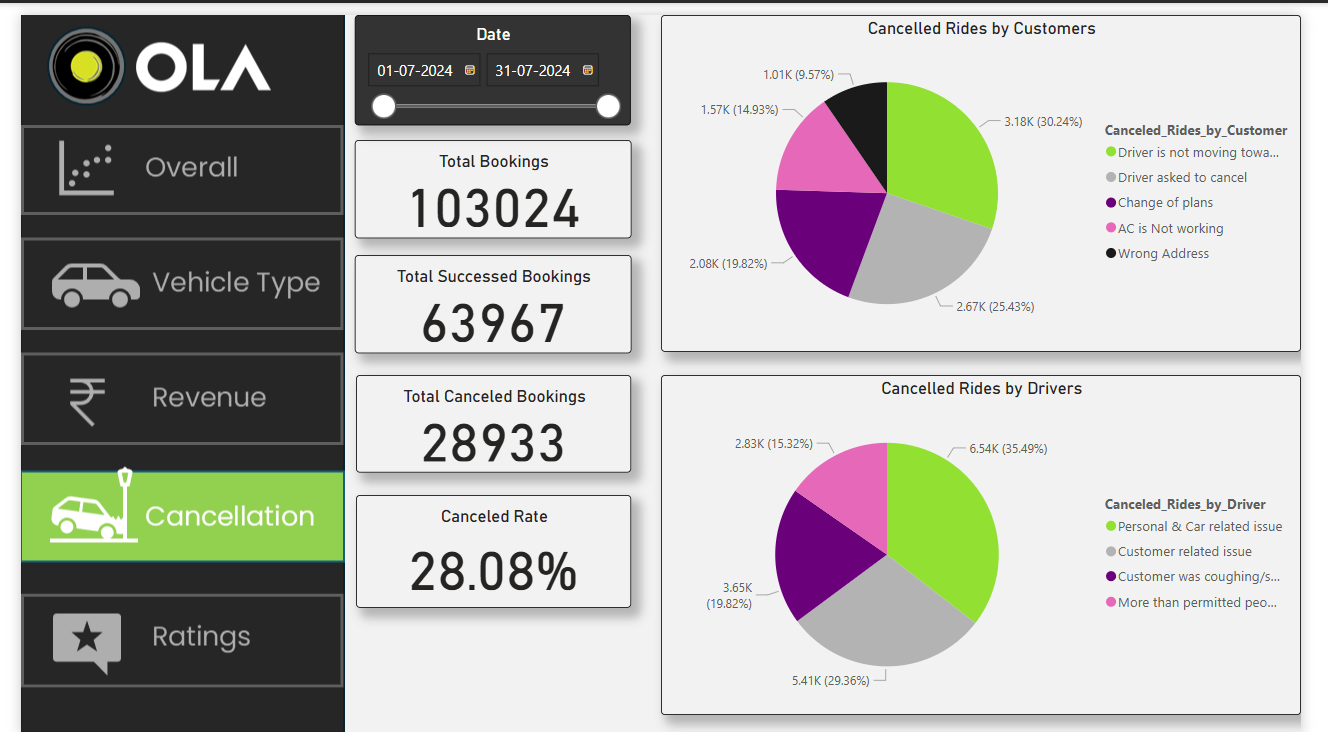

This screenshot's page, from the dashboard's own definition file:
{"tool":"powerbi","page":{"name":"Cancellation","canvas":[1280,720],"ordinal":3},"visuals":[{"type":"actionButton","box":[0,222.5,322.5,92.5],"z":0},{"type":"actionButton","box":[0,337.5,322.5,92.5],"z":1000},{"type":"actionButton","box":[0,578.8,322.5,93.8],"z":2000},{"type":"actionButton","box":[0,110,322.5,90],"z":3000},{"type":"pieChart","title":"Cancelled Rides by Drivers","fields":{"Category":["July.Canceled_Rides_by_Driver"],"Y":["CountNonNull(July.Canceled_Rides_by_Driver)"]},"box":[640,360,640,340],"z":4000},{"type":"pieChart","title":"Cancelled Rides by Customers","fields":{"Category":["July.Canceled_Rides_by_Customer"],"Y":["CountNonNull(July.Canceled_Rides_by_Customer)"]},"box":[640,0,640,337.1],"z":5000},{"type":"card","title":"Total Bookings","fields":{"Values":["CountNonNull(July.Booking_ID)"]},"box":[333.8,124.8,276.4,98.1],"z":6000},{"type":"slicer","title":"Date","fields":{"Values":["July.Date"]},"box":[334.3,0,275.7,110],"z":7000},{"type":"card","title":"Total Successed Bookings","fields":{"Values":["CountNonNull(July.Booking_ID)"]},"box":[333.8,239.5,276.4,98.1],"z":8000},{"type":"card","title":"Total Canceled Bookings","fields":{"Values":["CountNonNull(July.Booking_ID)"]},"box":[335,359.5,275.3,97.9],"z":9000},{"type":"card","title":"Canceled Rate","fields":{"Values":["July.CanceledPercentage"]},"box":[335,480.3,275.3,113.2],"z":10000}]}

Visuals, with their boxes in screenshot pixels (x1, y1, x2, y2), scaled from the page's 1280x720 canvas onto the 1328x732 screenshot:
actionButton: <bbox>0, 226, 335, 320</bbox>
actionButton: <bbox>0, 343, 335, 437</bbox>
actionButton: <bbox>0, 588, 335, 684</bbox>
actionButton: <bbox>0, 112, 335, 203</bbox>
"Cancelled Rides by Drivers" pieChart: <bbox>664, 366, 1327, 712</bbox>
"Cancelled Rides by Customers" pieChart: <bbox>664, 0, 1327, 343</bbox>
"Total Bookings" card: <bbox>346, 127, 633, 227</bbox>
"Date" slicer: <bbox>347, 0, 633, 112</bbox>
"Total Successed Bookings" card: <bbox>346, 243, 633, 343</bbox>
"Total Canceled Bookings" card: <bbox>348, 365, 633, 465</bbox>
"Canceled Rate" card: <bbox>348, 488, 633, 603</bbox>
